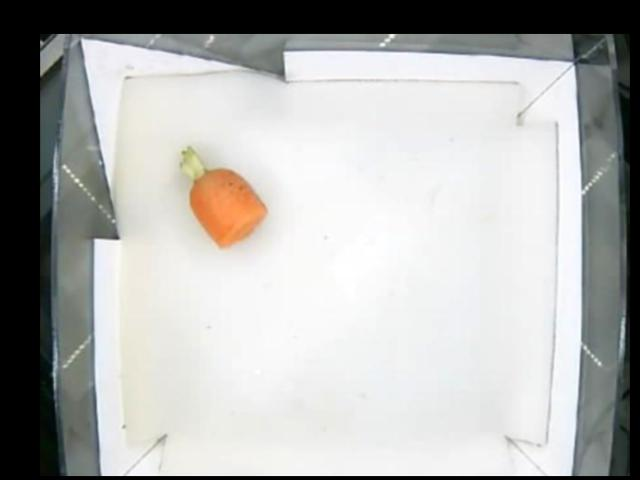Carrot: (180, 142, 265, 248)
